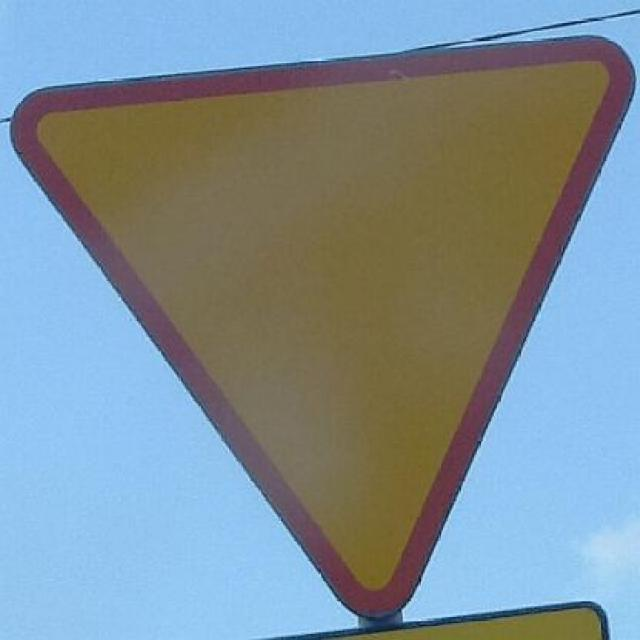Ustap pierwszenstwa: (8, 35, 634, 618)
